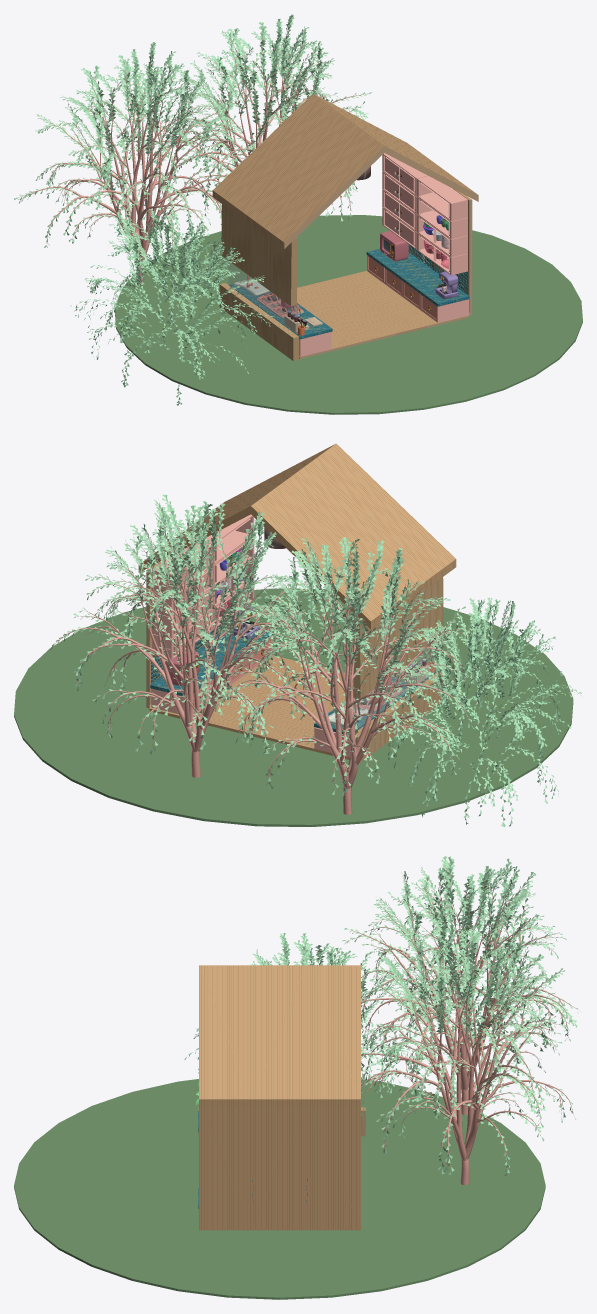
File: outdoorkitchen.glb
The picture shows the model from 3 angles, top to bottom: view 1: azimuth 30°, elevation 25°; view 2: azimuth 150°, elevation 25°; view 3: azimuth 270°, elevation 25°; orthographic projection. The views are drawn at different scales.
Visible parts, largest first — view 1: Cylinder, Plane.001, leaves.001, leaves.003, leaves, tree.001, Plane, Cube.007, Plane.015, tree, Plane.016, Plane.009 (+6 smaller); view 2: Cylinder, Plane.001, leaves.001, leaves, leaves.003, tree.001, tree, Plane, Cube.007, Plane.015, Plane.016, Plane.009 (+3 smaller); view 3: Cylinder, Plane.001, Plane, leaves, leaves.001, tree, tree.001, leaves.003.
Part boxes in pixels (x1,y1,x2,y2): Cylinder: [114, 215, 582, 414]; Plane.001: [212, 93, 478, 249]; leaves.001: [14, 42, 242, 260]; leaves.003: [70, 209, 273, 405]; leaves: [144, 14, 371, 221]; tree.001: [20, 55, 232, 284]; Plane: [297, 189, 472, 358]; Cube.007: [382, 153, 467, 275]; Plane.015: [221, 204, 297, 306]; tree: [145, 30, 364, 216]; Plane.016: [219, 283, 299, 360]; Plane.009: [366, 248, 469, 306]; Cylinder: [14, 588, 573, 826]; Plane.001: [138, 443, 456, 629]; leaves.001: [214, 537, 475, 795]; leaves: [50, 494, 330, 754]; leaves.003: [382, 597, 581, 826]; tree.001: [220, 542, 469, 814]; tree: [53, 505, 325, 777]; Plane: [146, 559, 353, 759]; Cube.007: [152, 514, 254, 659]; Plane.015: [352, 577, 443, 698]; Plane.016: [355, 671, 444, 763]; Plane.009: [150, 628, 273, 695]; Cylinder: [14, 1079, 545, 1299]; Plane.001: [199, 965, 360, 1106]; Plane: [199, 1107, 360, 1230]; leaves: [361, 924, 575, 1175]; leaves.001: [342, 856, 581, 1103]; tree: [361, 935, 573, 1184]; tree.001: [348, 865, 577, 1114]; leaves.003: [184, 933, 429, 1109].
Bounding box in the file's own units: 7.11 × 4.06 × 7.02.
54 materials, 19 textured.
